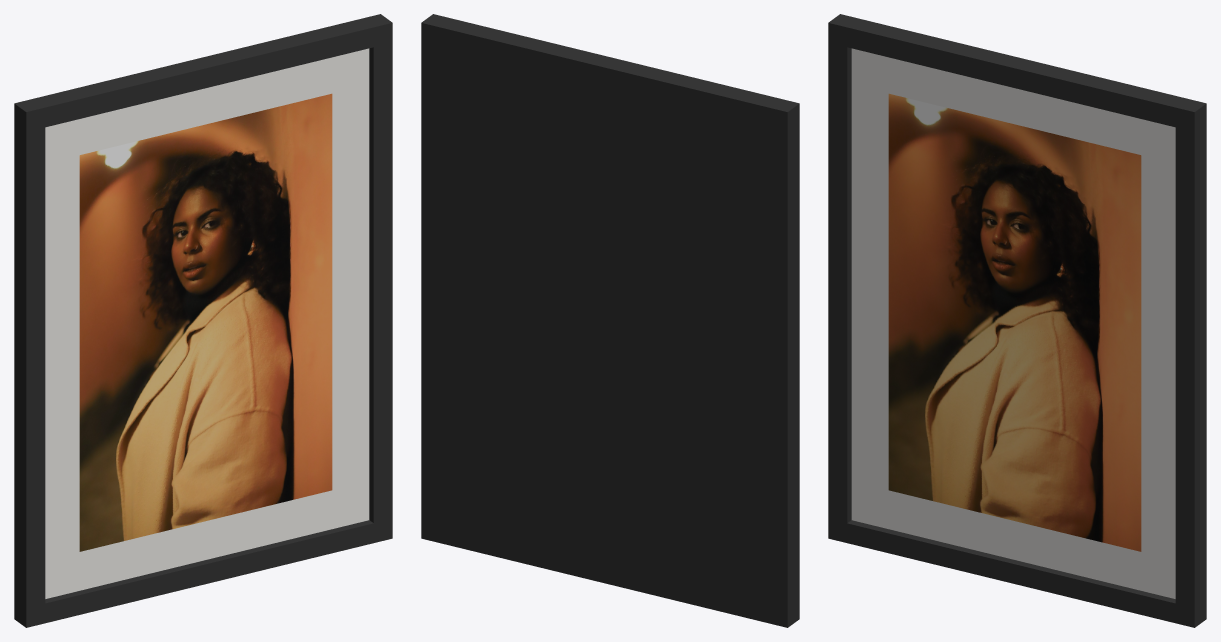
Rendered from kappan-40.gltf.
3 views of the same model, side by side, from view 1: azimuth 30°, elevation 25°; view 2: azimuth 150°, elevation 25°; view 3: azimuth 330°, elevation 25° (orthographic).
Parts seen in each view (by area): view 1: tavla; view 2: tavla; view 3: tavla.
Part boxes in pixels (x1,y1,x2,y2): tavla: [14, 14, 392, 627]; tavla: [421, 14, 799, 627]; tavla: [828, 14, 1206, 627].
Bounding box in the file's own units: 0.3867 × 0.52 × 0.022.
Materials: 3 (1 with a texture image).
